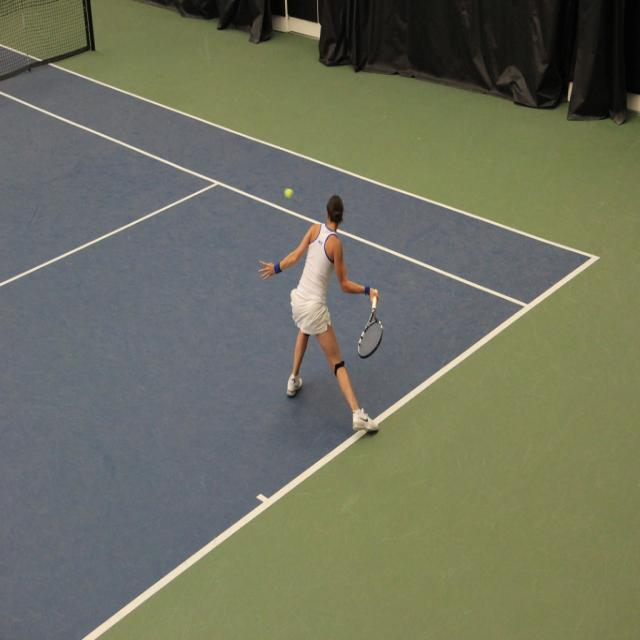Tennis ball: (284, 188, 292, 197), (286, 186, 292, 197)
